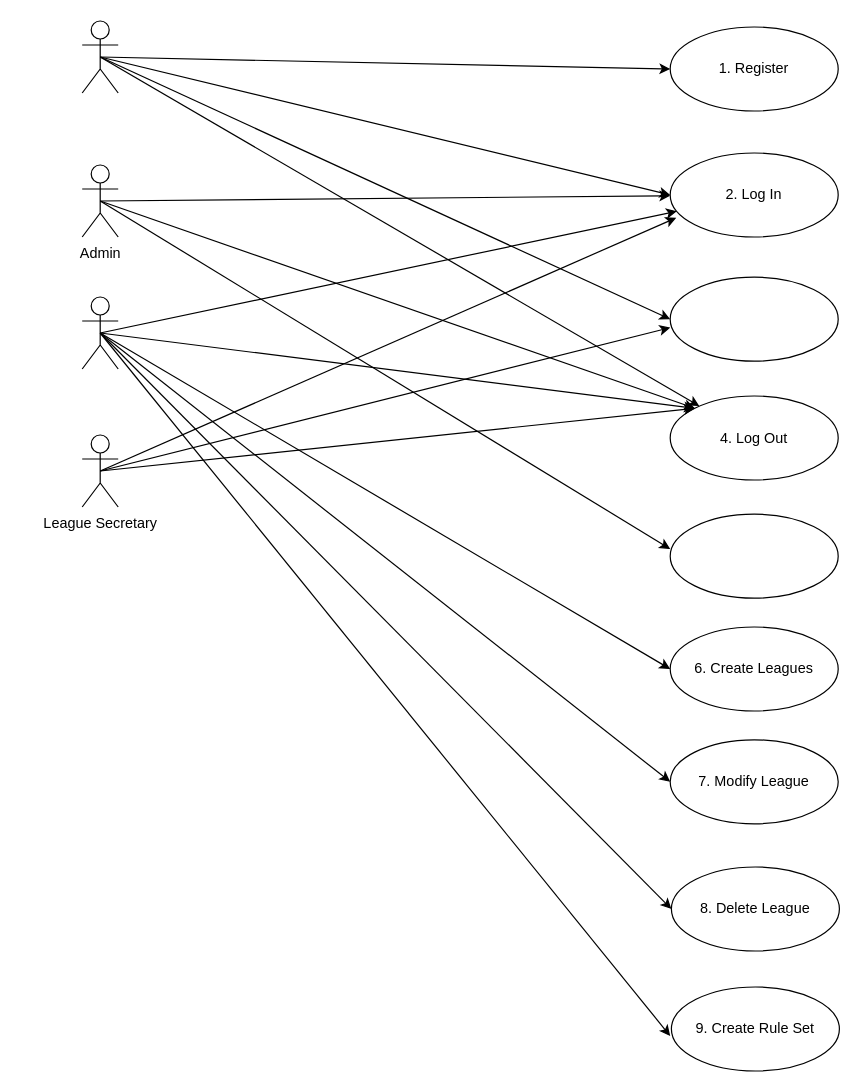
Image size: 860x1092. Some labels were removed from this diagram. Here are the shapes that lost their labels. From the top down, the box of each, then its label:
(81, 20, 118, 93): Bowler
(81, 296, 118, 369): Bowling Center Manager
(669, 276, 838, 361): 3. Change Password
(669, 513, 838, 598): 5. Provide Site Management
